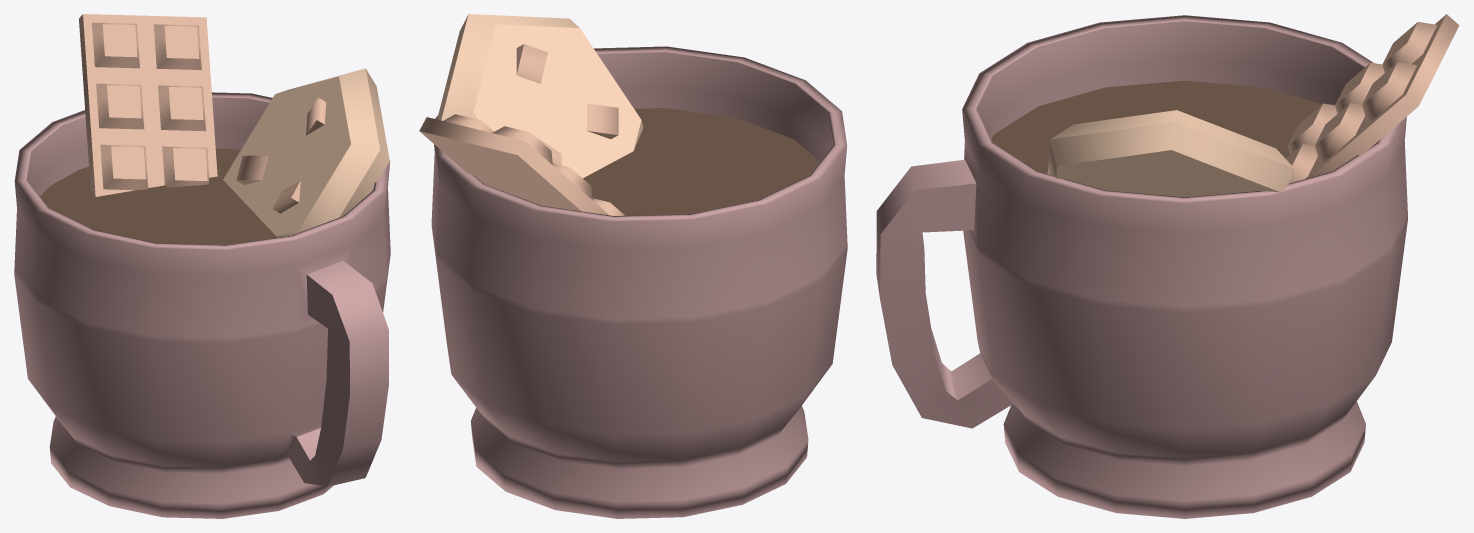
File: drink7_sweet.fbx
3 views of the same model, side by side, from view 1: azimuth 30°, elevation 25°; view 2: azimuth 150°, elevation 25°; view 3: azimuth 270°, elevation 25° (orthographic). The views are drawn at different scales.
Parts seen in each view (by area): view 1: nurbsToPoly1, chocolate, cookie, pDisc1; view 2: nurbsToPoly1, cookie, pDisc1, chocolate; view 3: nurbsToPoly1, cookie, pDisc1, chocolate.
Part boxes in pixels (box(x1,y1,x2,y2)): nurbsToPoly1: box(14, 92, 390, 518); chocolate: box(79, 14, 217, 196); cookie: box(223, 68, 389, 237); pDisc1: box(40, 148, 278, 244); nurbsToPoly1: box(431, 46, 847, 518); cookie: box(437, 14, 643, 177); pDisc1: box(583, 108, 819, 215); chocolate: box(419, 114, 624, 215); nurbsToPoly1: box(876, 15, 1407, 518); cookie: box(1047, 110, 1294, 197); pDisc1: box(991, 80, 1376, 173); chocolate: box(1286, 14, 1459, 181).
Size of the model in its own units: 31.01 by 32.14 by 40.01.
